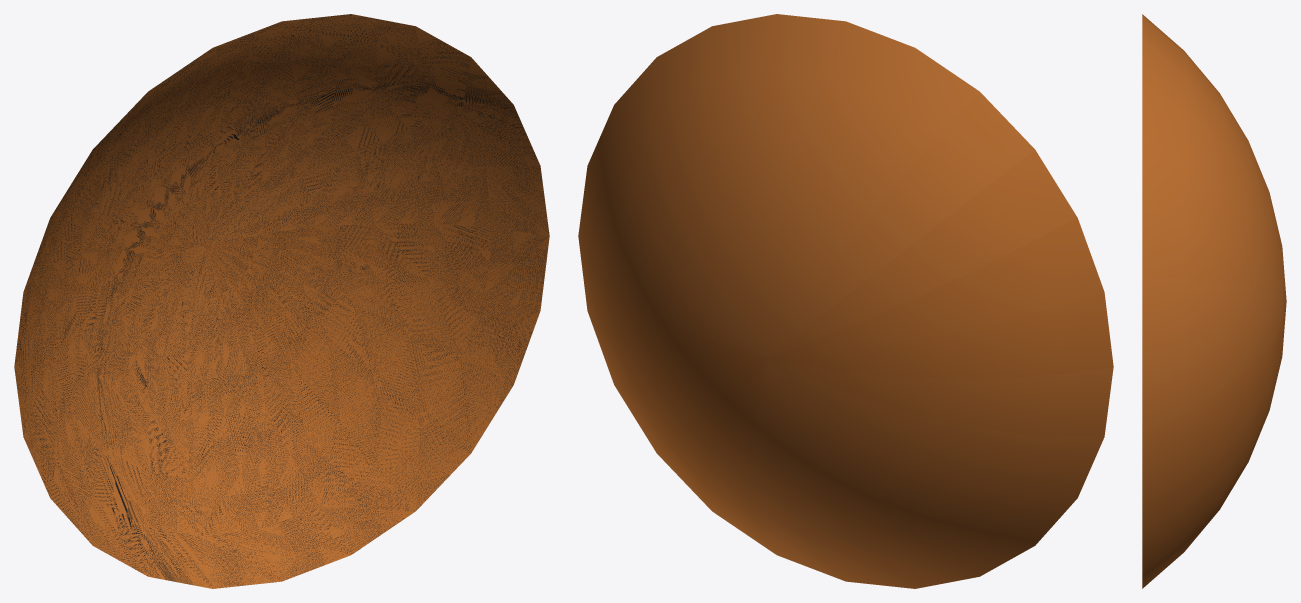
Rendered from original-18.obj.
3 views of the same model, side by side, from view 1: azimuth 30°, elevation 25°; view 2: azimuth 150°, elevation 25°; view 3: azimuth 270°, elevation 25° (orthographic). The views are drawn at different scales.
Parts seen in each view (by area): view 1: Wooden_Plug4/Wooden_Plug/mesh1/mesh1-geometry#mesh1-geometry; view 2: Wooden_Plug4/Wooden_Plug/mesh1/mesh1-geometry#mesh1-geometry; view 3: Wooden_Plug4/Wooden_Plug/mesh1/mesh1-geometry#mesh1-geometry.
Part boxes in pixels (x1,y1,x2,y2): Wooden_Plug4/Wooden_Plug/mesh1/mesh1-geometry#mesh1-geometry: [14, 14, 549, 588]; Wooden_Plug4/Wooden_Plug/mesh1/mesh1-geometry#mesh1-geometry: [578, 14, 1113, 588]; Wooden_Plug4/Wooden_Plug/mesh1/mesh1-geometry#mesh1-geometry: [1142, 14, 1286, 588].
Bounding box in the file's own units: 0.0221 × 0.0221 × 0.00552.
